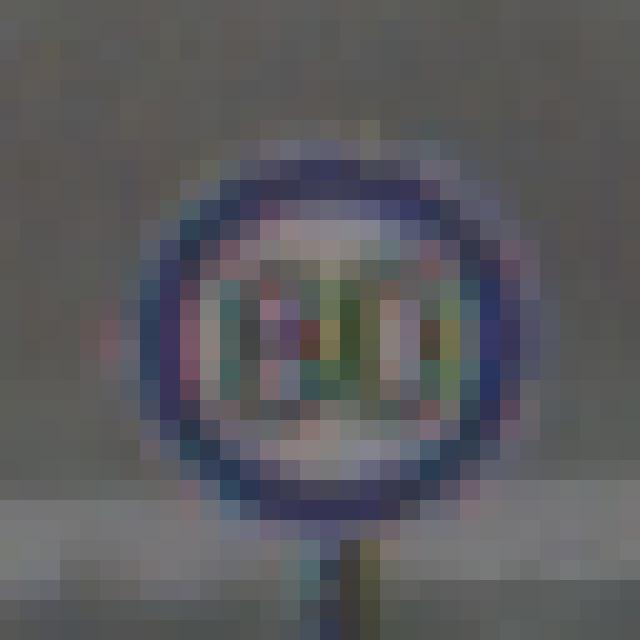SPEED-LIMIT-80: (142, 160, 520, 522)
